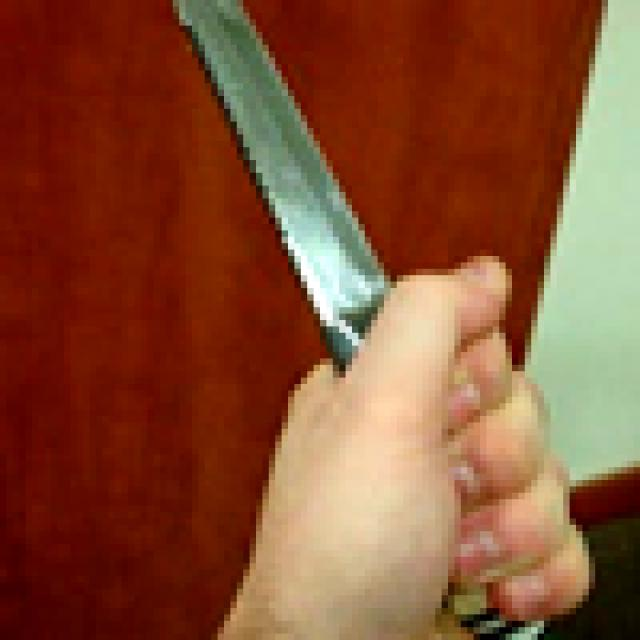Knife: (160, 0, 538, 640)
